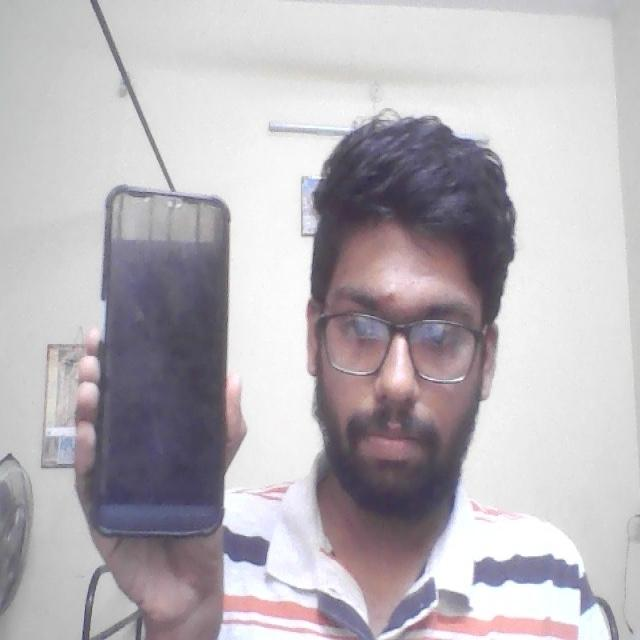Mobile: (94, 183, 232, 540)
